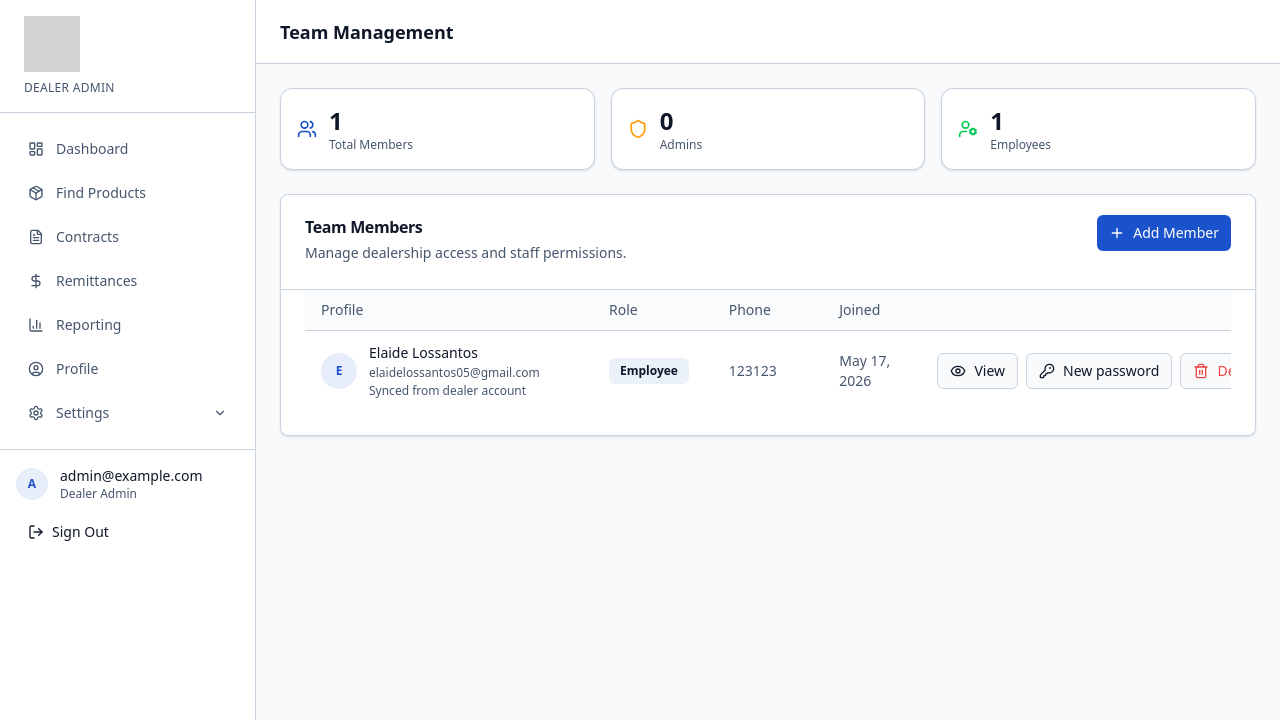
Scenario: dealership settings team creation › deletes a legacy team member through the edge function
Expected: the text "Elaide Lossantos" is shown, [369,342,478,362]
What coordinates should you click on to do the following:
click the button "Delete"
I would click on:
 (1227, 370)
Its box is [1180,352,1273,388].
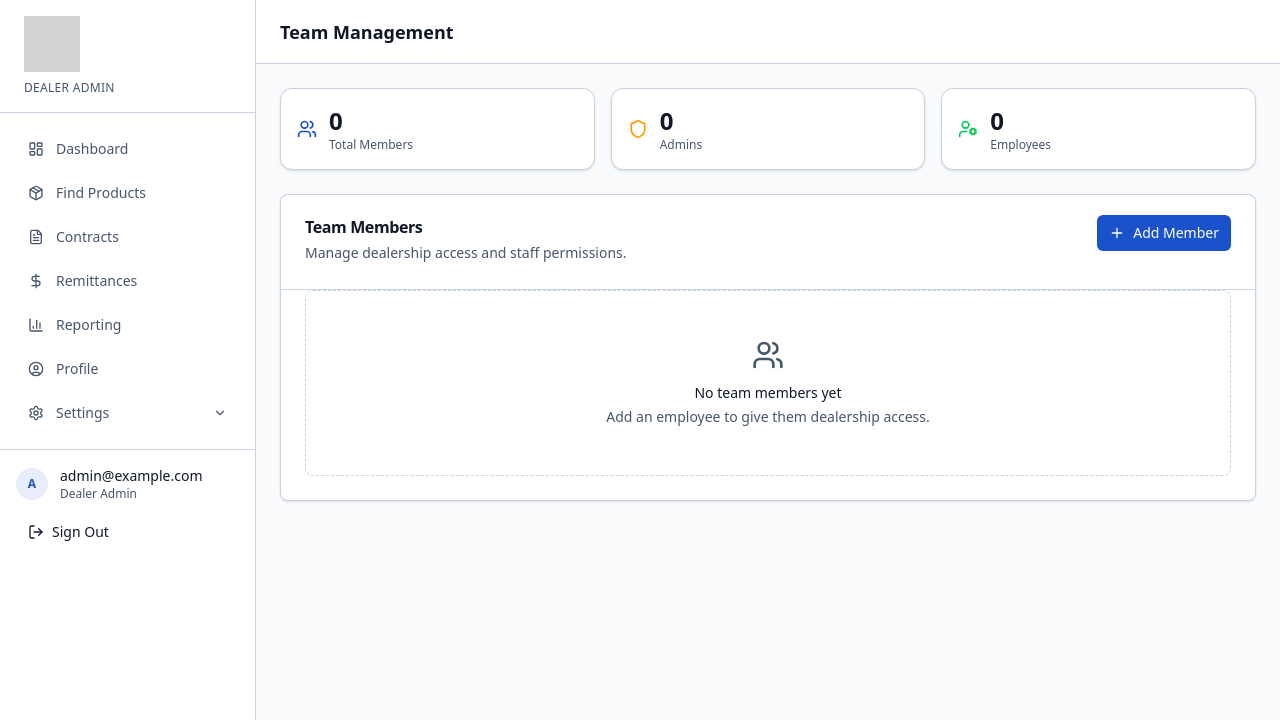
Expected: the text "Elaide Lossantos" is gone
